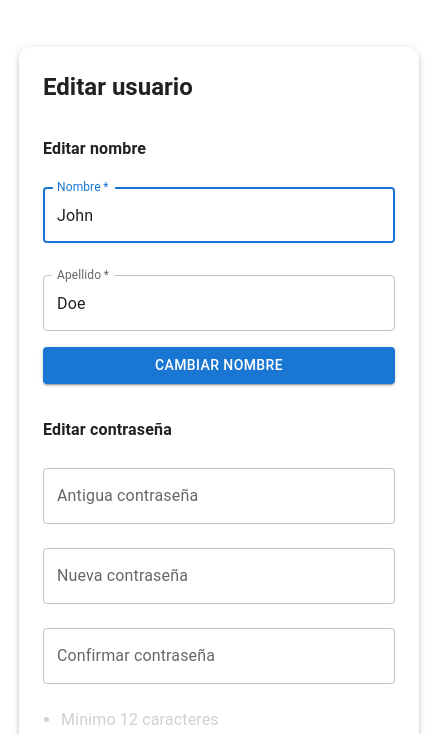
Scenario: UserEdit › maps an incorrect old password error (PW007) from the server
Step 1. Type "WrongPassword1!" into the password field labelled "Antigua contraseña" → (219, 496), box [43,468,395,524]
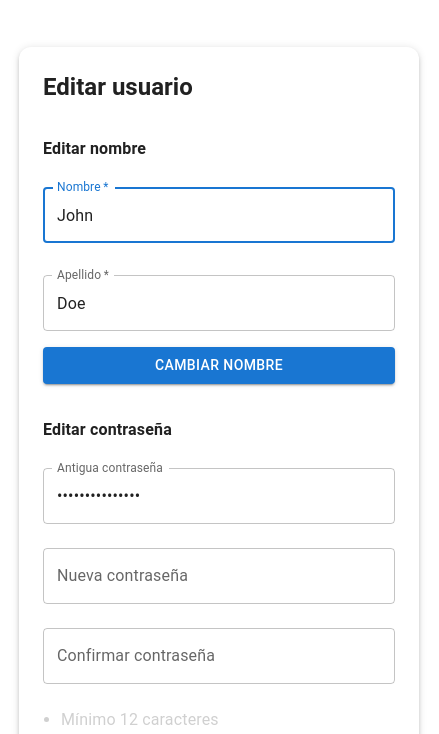
Step 2. Type "NewSecurePass9!" into the password field labelled "Nueva contraseña" → (219, 576), box [43,548,395,604]
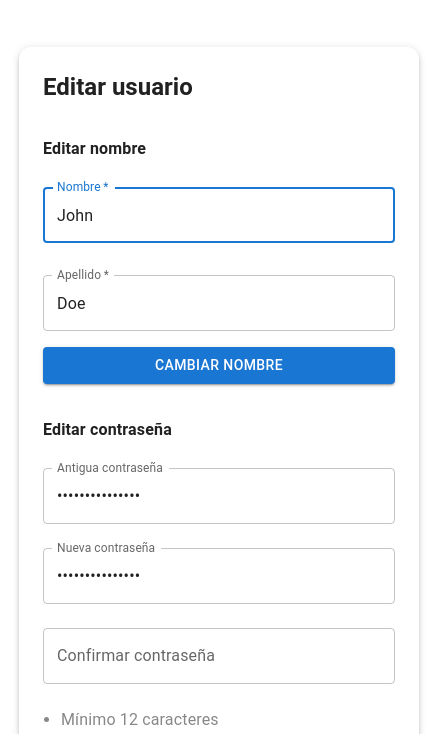
Step 3. Type "NewSecurePass9!" into the password field labelled "Confirmar contraseña" → (219, 656), box [43,628,395,684]
(page scrolled)
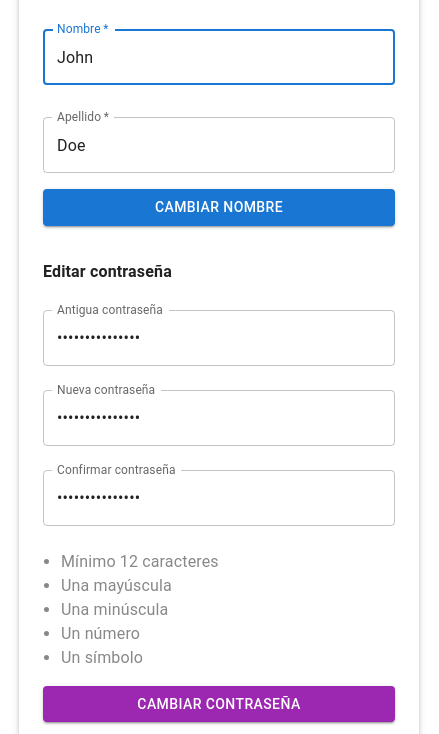
Step 4. Click the button "Cambiar contraseña" → (219, 704), box [43,686,395,722]
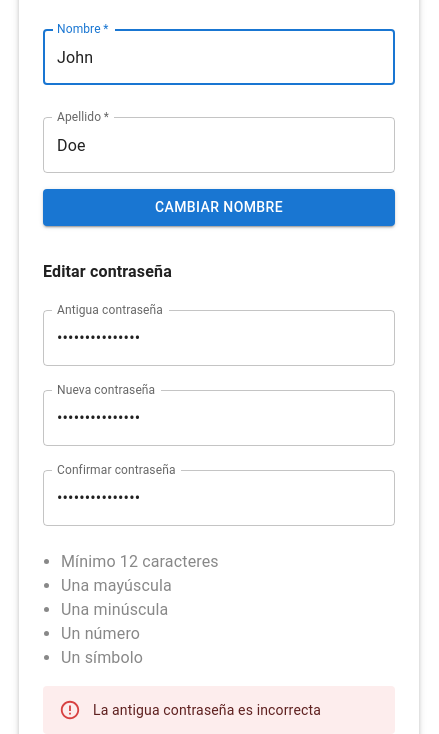
expect the text "La antigua contraseña es incorrecta" is shown: met, box [93,702,321,718]
